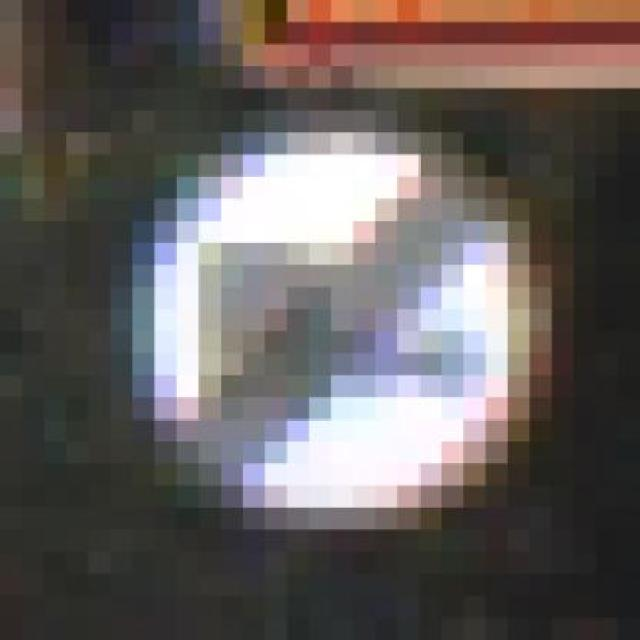Overtaking by trucks is prohibited: (66, 111, 619, 574)
